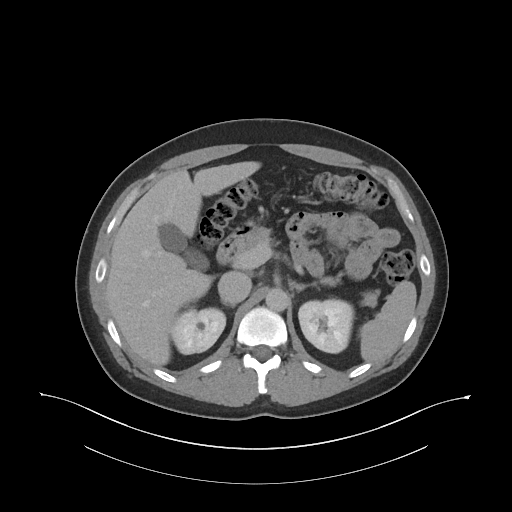Lesion: (192, 317, 208, 331)
